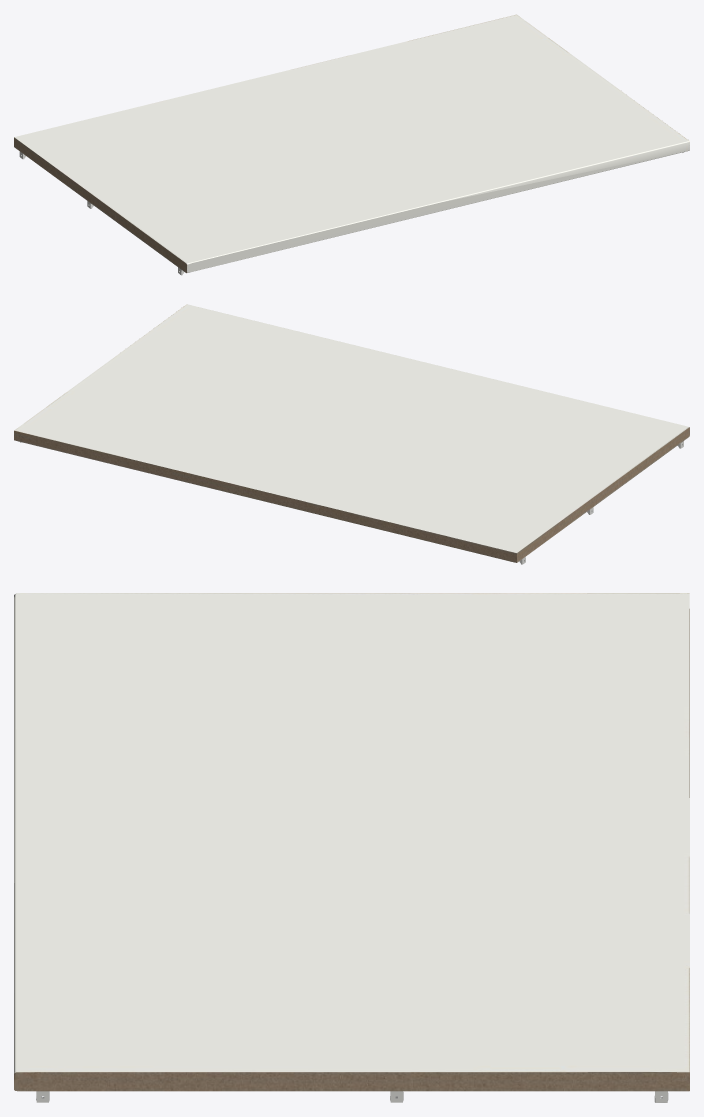
File: komplement_poka_70277957.glb
3 renders of one model, top to bottom at view 1: azimuth 30°, elevation 25°; view 2: azimuth 150°, elevation 25°; view 3: azimuth 270°, elevation 25°, orthographic. The views are drawn at different scales.
Parts seen in each view (by area): view 1: komplement_poka_70277957; view 2: komplement_poka_70277957; view 3: komplement_poka_70277957.
Boxes of the visible parts, x1=… form: komplement_poka_70277957: x1=14, y1=14, x2=689, y2=275; komplement_poka_70277957: x1=14, y1=304, x2=689, y2=564; komplement_poka_70277957: x1=14, y1=593, x2=689, y2=1102.
Size of the model in its own units: 0.961 by 0.029 by 0.573.
1 material, 1 textured.
